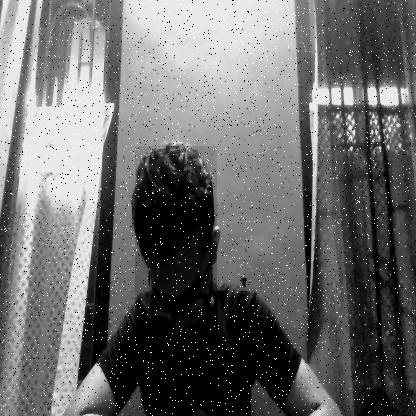Normal: (135, 146, 217, 353)
